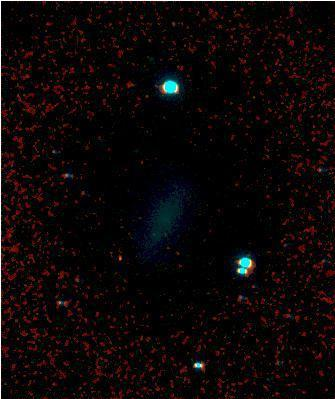star: (103, 242, 133, 272)
